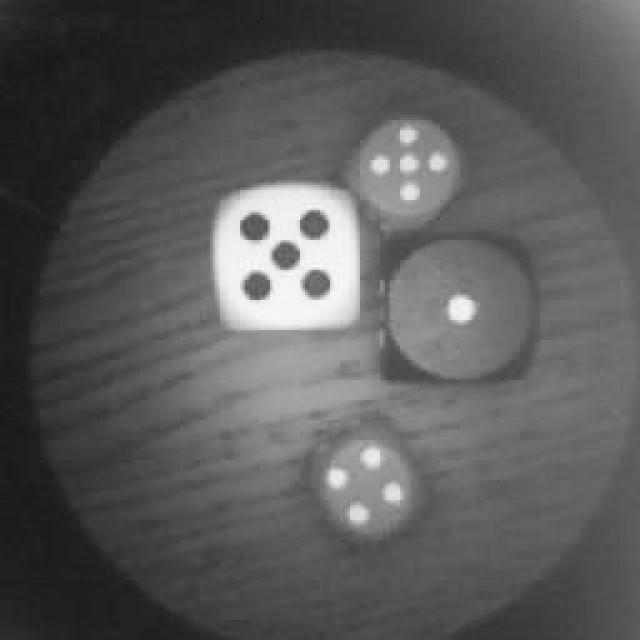dice_1: (378, 232, 540, 390)
dice_4: (305, 425, 430, 537)
dice_5: (207, 180, 375, 338), (340, 108, 470, 242)
